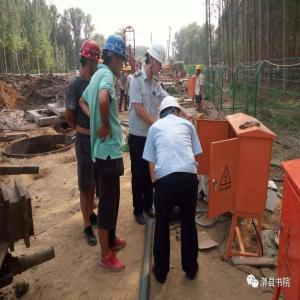blue: (104, 32, 126, 78)
red: (80, 40, 102, 77)
white: (148, 43, 167, 77), (160, 97, 182, 120)
yellow: (197, 66, 203, 76), (122, 65, 127, 76), (127, 66, 132, 76)
